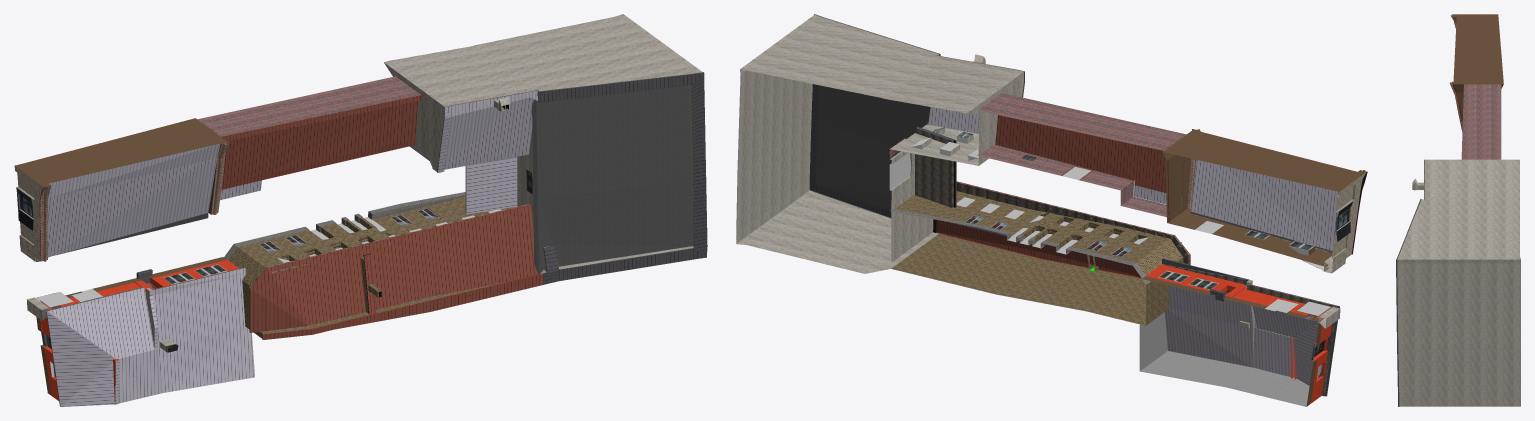
The model's file is Aia_10a-origo.obj.
The picture shows the model from 3 angles, left to right: view 1: azimuth 30°, elevation 25°; view 2: azimuth 150°, elevation 25°; view 3: azimuth 270°, elevation 25°; orthographic projection. The views are drawn at different scales.
Parts seen in each view (by area): view 1: Aia_10a; view 2: Aia_10a; view 3: Aia_10a.
Boxes of the visible parts, box(x1,y1,x2,y2) form: Aia_10a: box(14, 14, 707, 406); Aia_10a: box(736, 14, 1367, 406); Aia_10a: box(1396, 14, 1520, 406).
Size of the model in its own units: 59.88 by 22 by 13.23.
